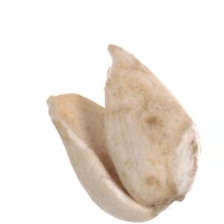L1: (45, 44, 117, 120), (150, 184, 189, 217)
L2: (48, 45, 201, 223)
